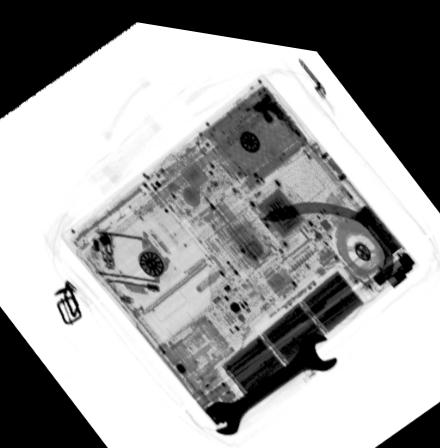Wrench: (203, 318, 337, 429)
